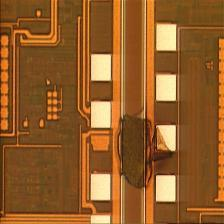PARTICLE: (113, 112, 175, 193)
